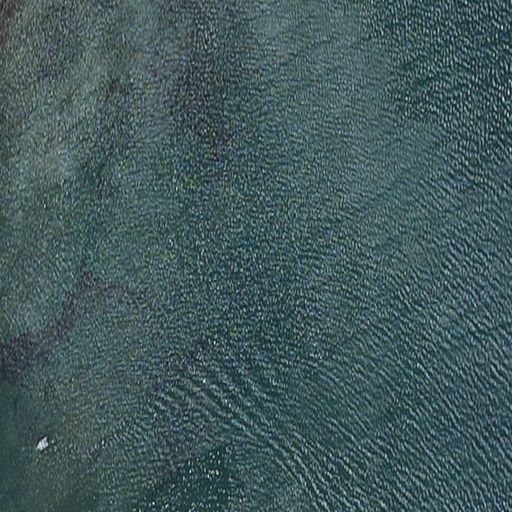ship: (34, 435, 49, 453)
